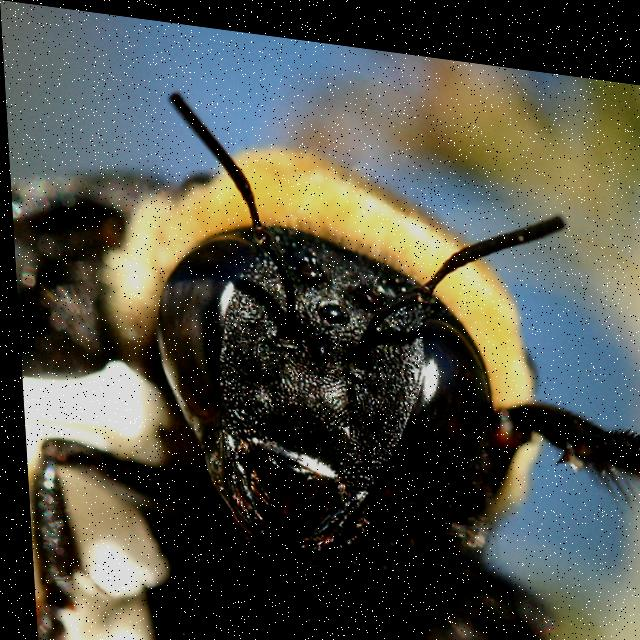Xylocopa: (4, 44, 640, 640)
